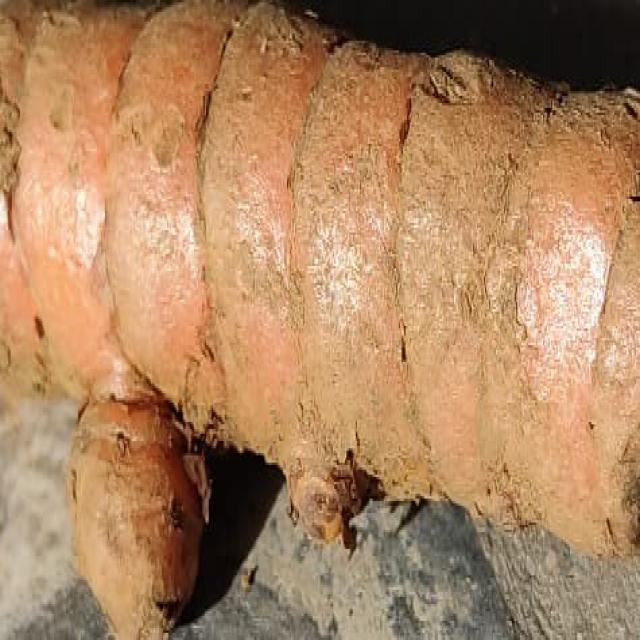ginger: (7, 1, 617, 506)
